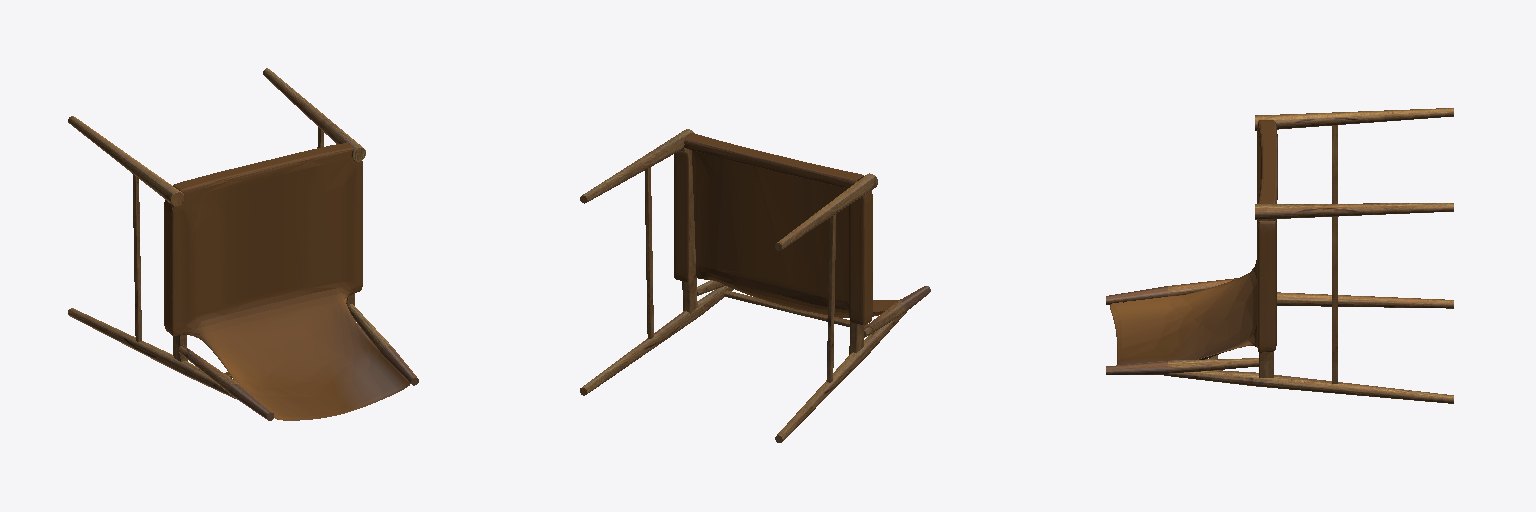
3 renders of one model, left to right at view 1: azimuth 30°, elevation 25°; view 2: azimuth 150°, elevation 25°; view 3: azimuth 270°, elevation 25°, orthographic.
Size of the model in its own units: 0.5361 by 0.5059 by 0.7943.
Materials: 1 (1 with a texture image).